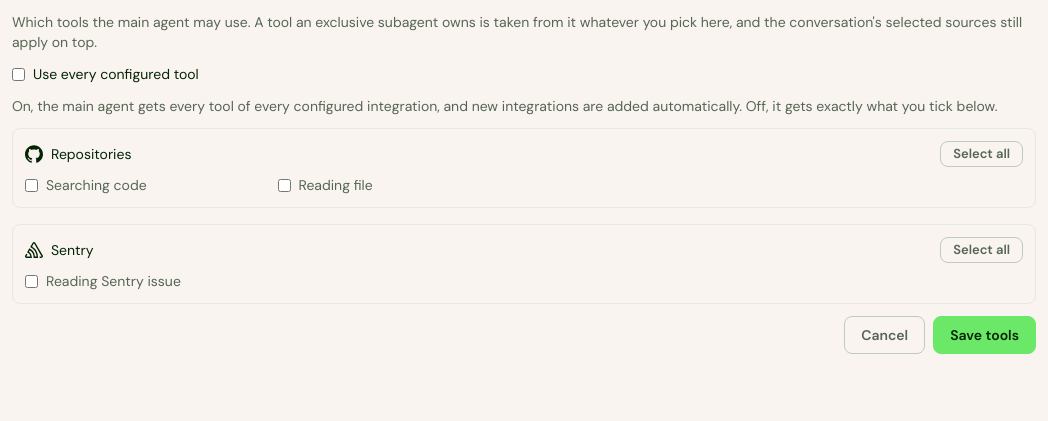
Scenario: MainAgentForm › shows the error the API returned
What coordinates should you click on to do the following:
click the button "Save tools"
I would click on:
 (985, 335)
Its box is [933,316,1036,354].
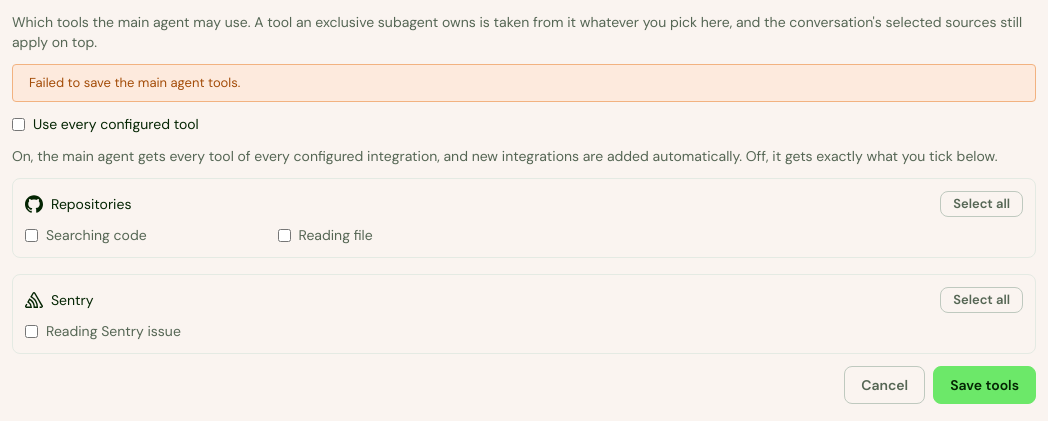
Result: the text "Failed to save the main agent tools." is shown at [12,64,1036,102]
